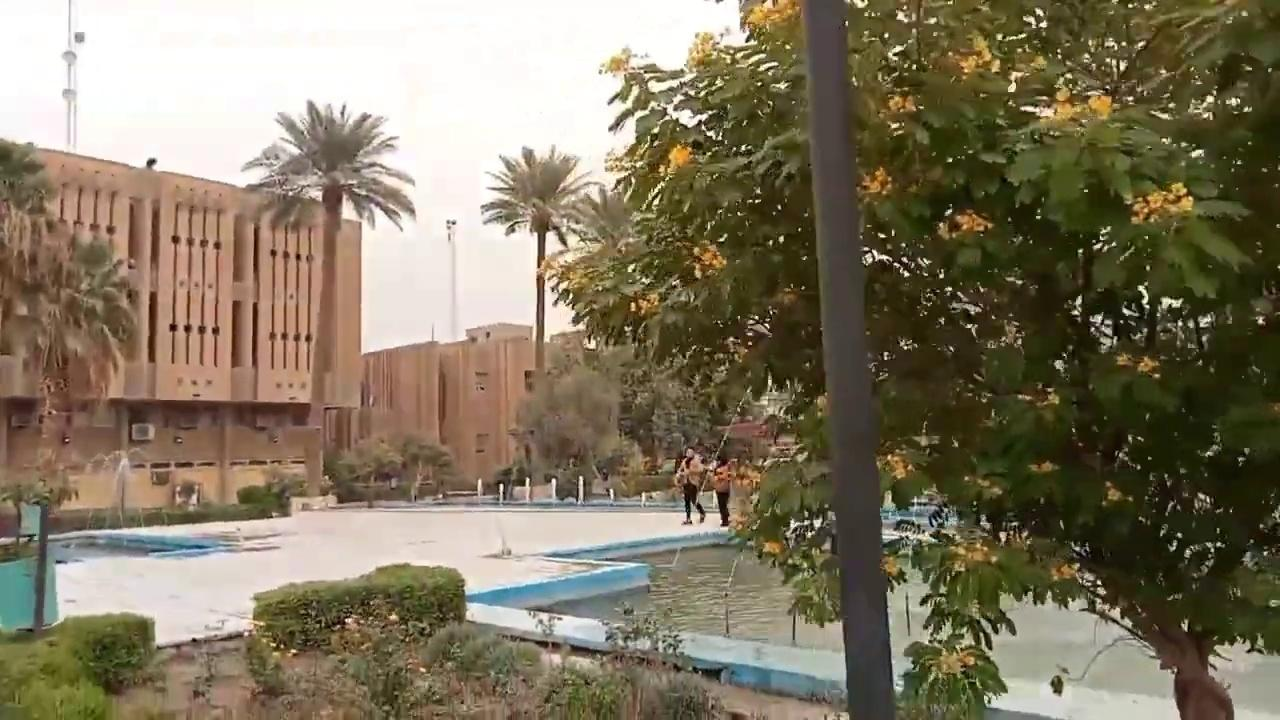fountain: (4, 484, 1276, 718), (5, 489, 752, 652)
person: (677, 455, 706, 525), (712, 454, 735, 526)
tree: (538, 0, 1279, 718), (239, 98, 416, 490), (0, 136, 137, 630), (479, 143, 599, 496), (507, 357, 622, 501), (334, 434, 402, 504), (398, 434, 452, 499)
